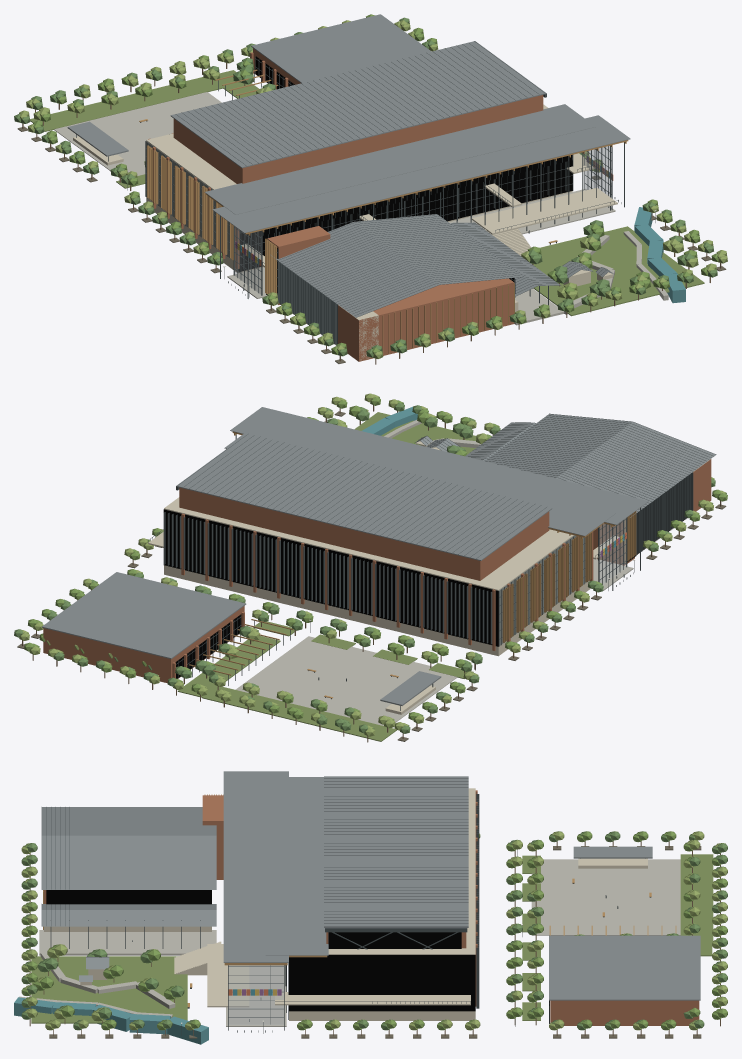
File: convention-center.glb
3 views of the same model, one above another, from view 1: azimuth 30°, elevation 25°; view 2: azimuth 150°, elevation 25°; view 3: azimuth 270°, elevation 25° (orthographic).
Parts seen in each view (by area): view 1: 02 _ Meeting wings and flex hall__Blue gray architectural gl; view 2: 02 _ Meeting wings and flex hall__Blue gray architectural gl; view 3: 02 _ Meeting wings and flex hall__Blue gray architectural gl.
Boxes of the visible parts, x1,y1,x2,y2 form: 02 _ Meeting wings and flex hall__Blue gray architectural gl: [14, 14, 727, 364]; 02 _ Meeting wings and flex hall__Blue gray architectural gl: [14, 393, 727, 742]; 02 _ Meeting wings and flex hall__Blue gray architectural gl: [14, 771, 727, 1044].
Size of the model in its own units: 200 by 45.12 by 306.
